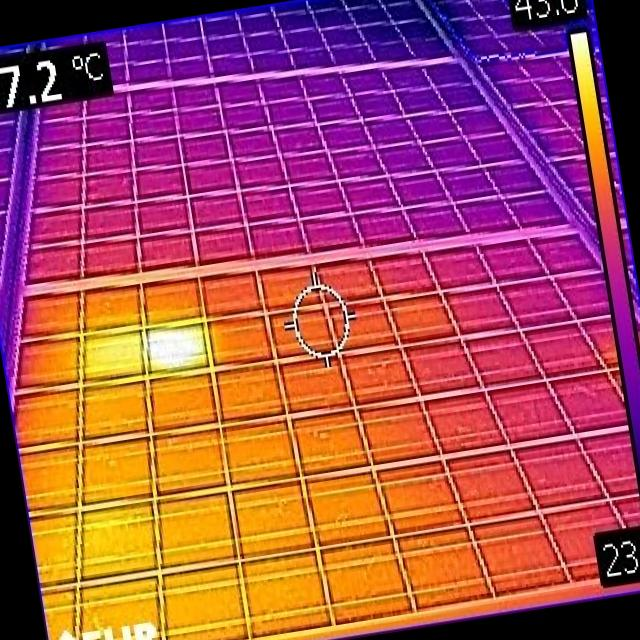Hotspot: (138, 315, 214, 374)
